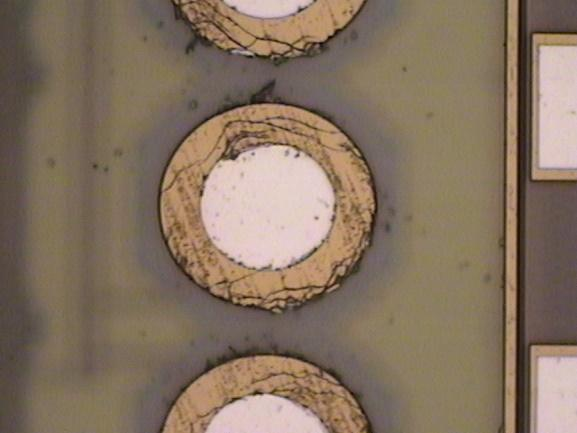SCRATCH: (159, 1, 379, 433)
